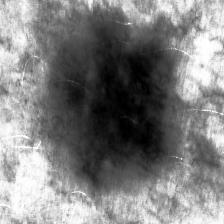Benign Marking or Mole: (58, 24, 172, 168)
